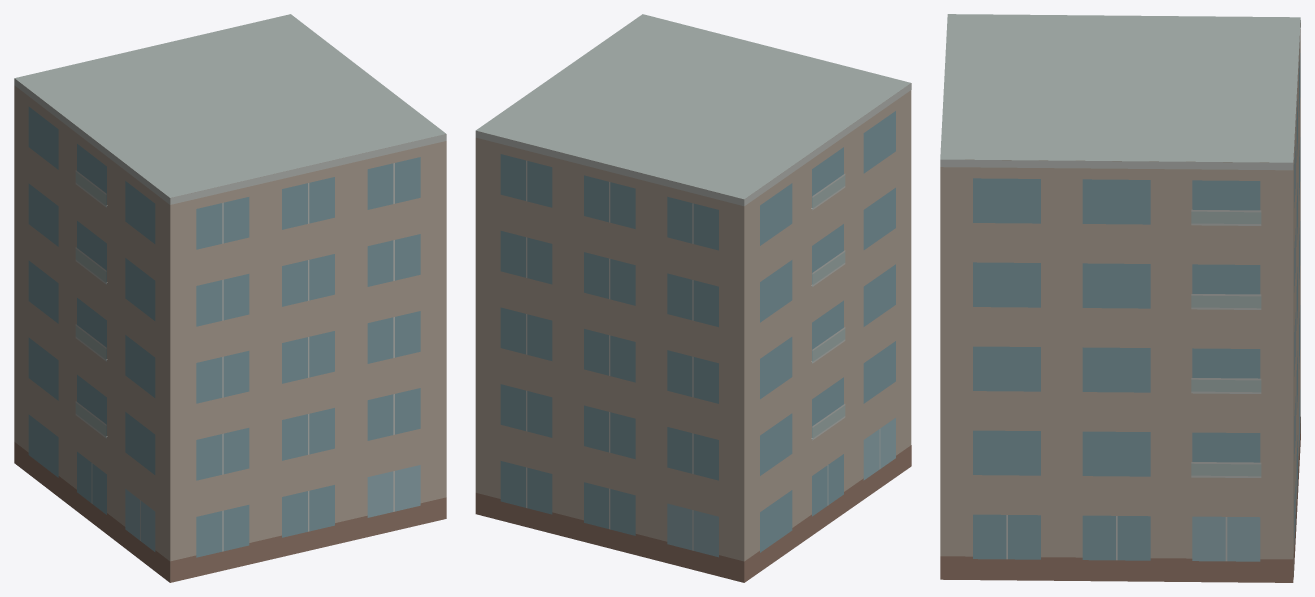
Rendered from survey-upis-32914987.glb.
3 views of the same model, side by side, from view 1: azimuth 30°, elevation 25°; view 2: azimuth 150°, elevation 25°; view 3: azimuth 270°, elevation 25° (orthographic). The views are drawn at different scales.
Parts seen in each view (by area): view 1: survey-upis-32914987.tmp; view 2: survey-upis-32914987.tmp; view 3: survey-upis-32914987.tmp.
Part boxes in pixels (x1,y1,x2,y2): survey-upis-32914987.tmp: (14,14,446,582); survey-upis-32914987.tmp: (475,14,911,582); survey-upis-32914987.tmp: (940,14,1300,582).
Bounding box in the file's own units: 10.19 × 13.4 × 10.43.
